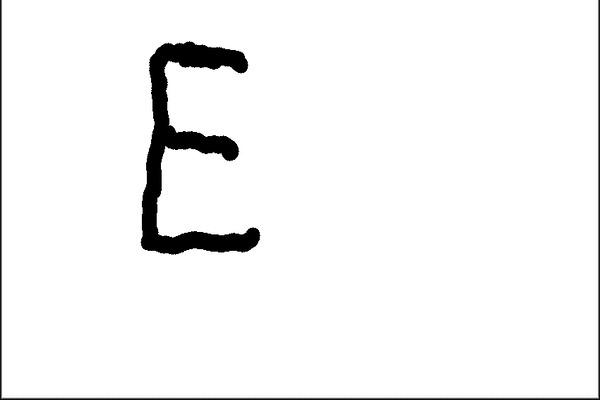E: (134, 35, 267, 259)
